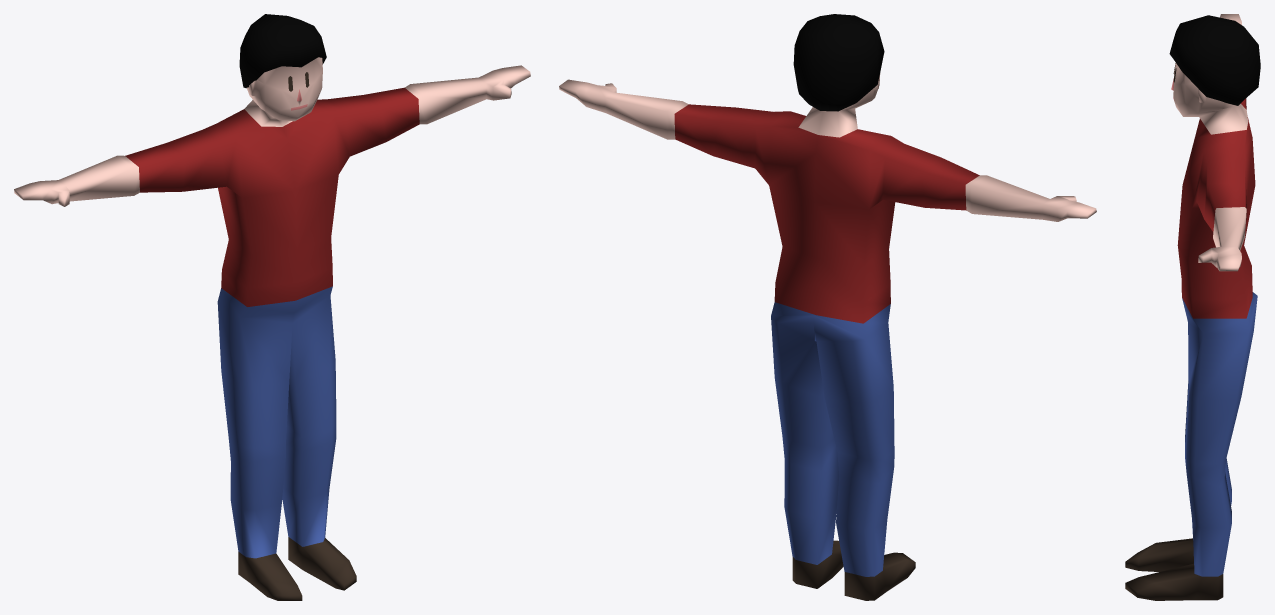
The model's file is Huma_Mascle_NoRig.fbx.
3 renders of one model, left to right at view 1: azimuth 30°, elevation 25°; view 2: azimuth 150°, elevation 25°; view 3: azimuth 270°, elevation 25°, orthographic. The views are drawn at different scales.
Parts seen in each view (by area): view 1: Huma_Cos; view 2: Huma_Cos; view 3: Huma_Cos.
Part boxes in pixels (left/top/right/bottom): Huma_Cos: left=14, top=14, right=530, bottom=600; Huma_Cos: left=559, top=14, right=1096, bottom=600; Huma_Cos: left=1125, top=14, right=1260, bottom=600.
Size of the model in its own units: 1465 by 1510 by 332.
1 material, 1 textured.
